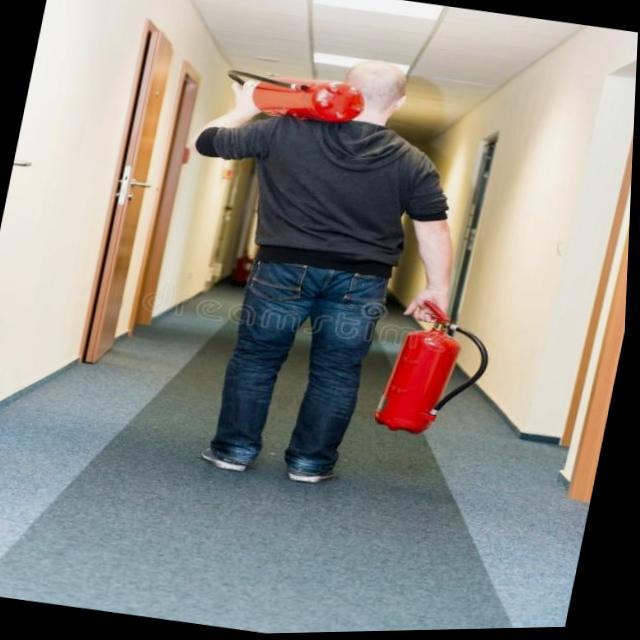FireExtinguisher: (367, 281, 512, 452), (203, 58, 376, 138)
